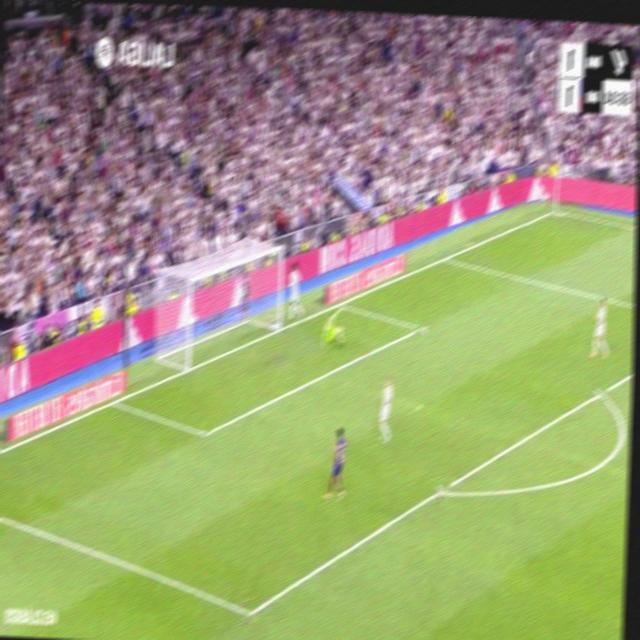bigarea_bottom_inner: (240, 593, 260, 630)
bigarea_top_outter: (439, 248, 451, 266)
bottom_arc_area_intersection: (432, 476, 449, 504)
corner: (548, 203, 561, 217)
smallarea_bottom_inner: (198, 420, 211, 445)
smallarea_top_inner: (414, 318, 427, 338)
top_arc_area_intersection: (592, 381, 607, 403)
